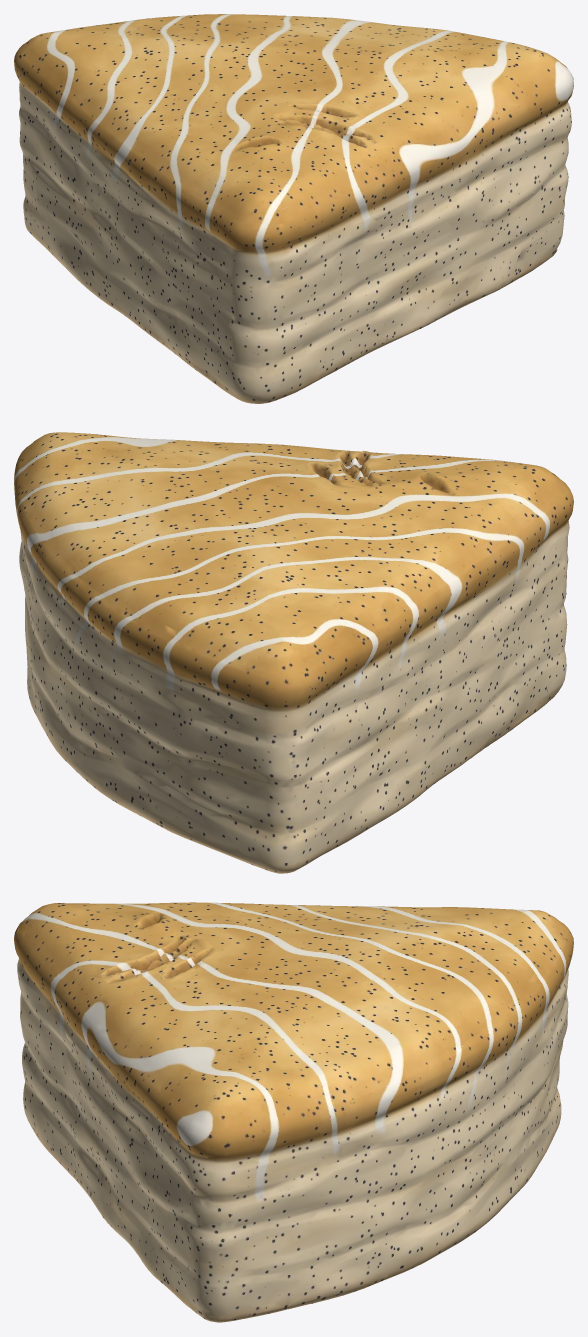
File: scone--poppyseed-seed.glb
3 renders of one model, top to bottom at view 1: azimuth 30°, elevation 25°; view 2: azimuth 150°, elevation 25°; view 3: azimuth 270°, elevation 25°, orthographic. The views are drawn at different scales.
Visible parts, largest first — view 1: scone_poppyseed-seed; view 2: scone_poppyseed-seed; view 3: scone_poppyseed-seed.
Part boxes in pixels (bbox=[...]): scone_poppyseed-seed: bbox=[14, 14, 573, 403]; scone_poppyseed-seed: bbox=[14, 432, 573, 873]; scone_poppyseed-seed: bbox=[14, 902, 573, 1322].
Bounding box in the file's own units: 0.9413 × 0.4639 × 0.9871.
1 material, 1 textured.
